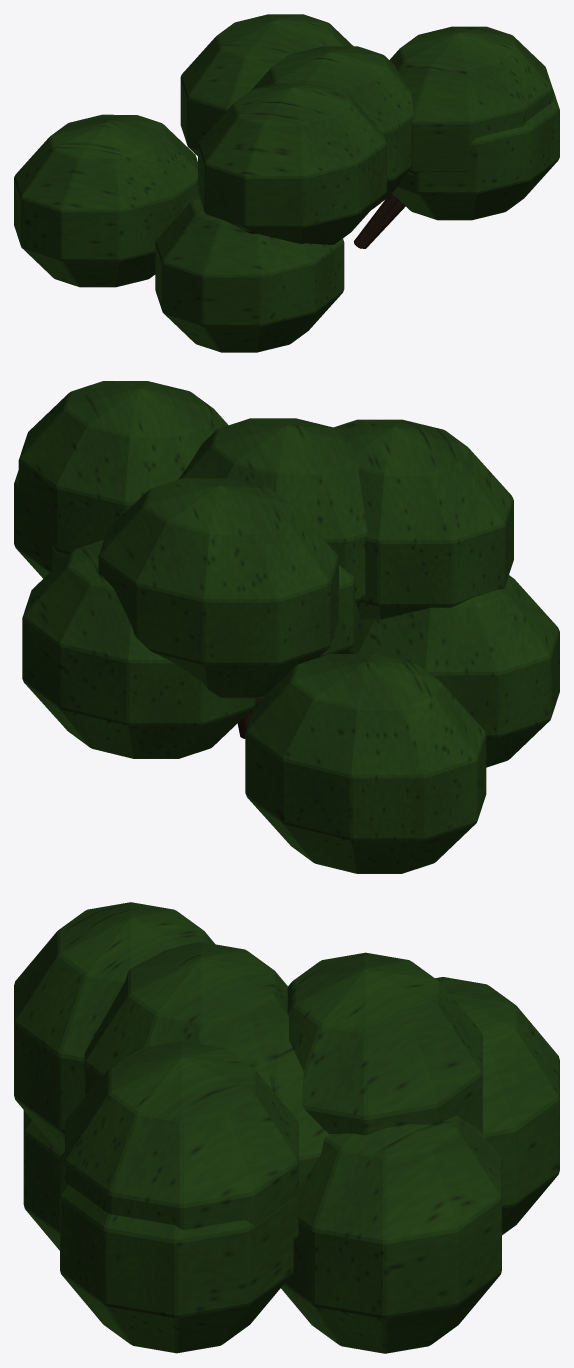
The model's file is PROP-E9BEBA3A5649_lod1.glb.
The picture shows the model from 3 angles, top to bottom: view 1: azimuth 30°, elevation 25°; view 2: azimuth 150°, elevation 25°; view 3: azimuth 270°, elevation 25°; orthographic projection. The views are drawn at different scales.
Visible parts, largest first — view 1: foliage.010, plant_stem.010; view 2: foliage.010; view 3: foliage.010.
Boxes of the visible parts, x1,y1,x2,y2 form: foliage.010: [14, 14, 559, 352]; plant_stem.010: [354, 193, 405, 248]; foliage.010: [14, 381, 559, 873]; foliage.010: [14, 902, 559, 1353].
Bounding box in the file's own units: 1.44 × 0.7944 × 1.01.
2 materials, 2 textured.
